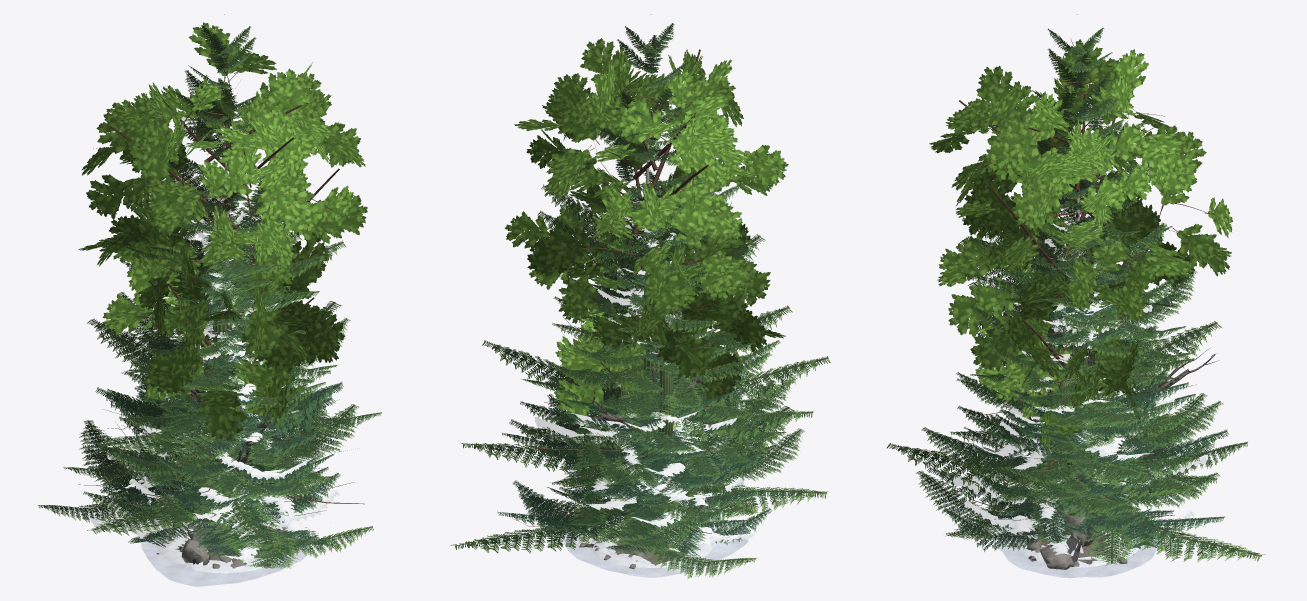
The model's file is sf-nature.glb.
3 renders of one model, left to right at view 1: azimuth 30°, elevation 25°; view 2: azimuth 150°, elevation 25°; view 3: azimuth 270°, elevation 25°, orthographic.
Parts seen in each view (by area): view 1: Needles (×2), Leaves, Snow, Trunk (×3), Snowy_Rocks (×2), SnowMound, Boulder_Set, Saguaro_Cactus; view 2: Needles (×2), Leaves, Snow, Trunk (×3), Snowy_Rocks (×2), Saguaro_Cactus, SnowMound; view 3: Needles (×2), Leaves, Snow, Trunk (×3), Snowy_Rocks (×2), SnowMound, Boulder_Set, Saguaro_Cactus, Dead_Tree.
Part boxes in pixels (x1=…): Needles (×2): x1=38, y1=25, x2=381, y2=568; Leaves: x1=78, y1=22, x2=367, y2=440; Snow: x1=88, y1=195, x2=339, y2=561; Trunk (×3): x1=73, y1=14, x2=364, y2=549; Snowy_Rocks (×2): x1=141, y1=507, x2=309, y2=586; SnowMound: x1=157, y1=531, x2=283, y2=573; Boulder_Set: x1=181, y1=527, x2=294, y2=568; Saguaro_Cactus: x1=181, y1=311, x2=260, y2=495; Needles (×2): x1=450, y1=23, x2=830, y2=579; Leaves: x1=505, y1=38, x2=788, y2=422; Snow: x1=534, y1=201, x2=756, y2=554; Trunk (×3): x1=506, y1=14, x2=790, y2=566; Snowy_Rocks (×2): x1=562, y1=499, x2=748, y2=577; Saguaro_Cactus: x1=620, y1=309, x2=673, y2=462; SnowMound: x1=589, y1=533, x2=712, y2=567; Needles (×2): x1=886, y1=27, x2=1265, y2=565; Leaves: x1=929, y1=39, x2=1232, y2=451; Snow: x1=953, y1=192, x2=1208, y2=555; Trunk (×3): x1=959, y1=14, x2=1211, y2=557; Snowy_Rocks (×2): x1=995, y1=498, x2=1159, y2=578; SnowMound: x1=1014, y1=522, x2=1142, y2=567; Boulder_Set: x1=1009, y1=518, x2=1140, y2=569; Saguaro_Cactus: x1=1058, y1=314, x2=1101, y2=507; Dead_Tree: x1=1015, y1=345, x2=1218, y2=480.
Bounding box in the file's own units: 10.02 × 15.86 × 11.22.
Materials: 32 (26 with a texture image).
